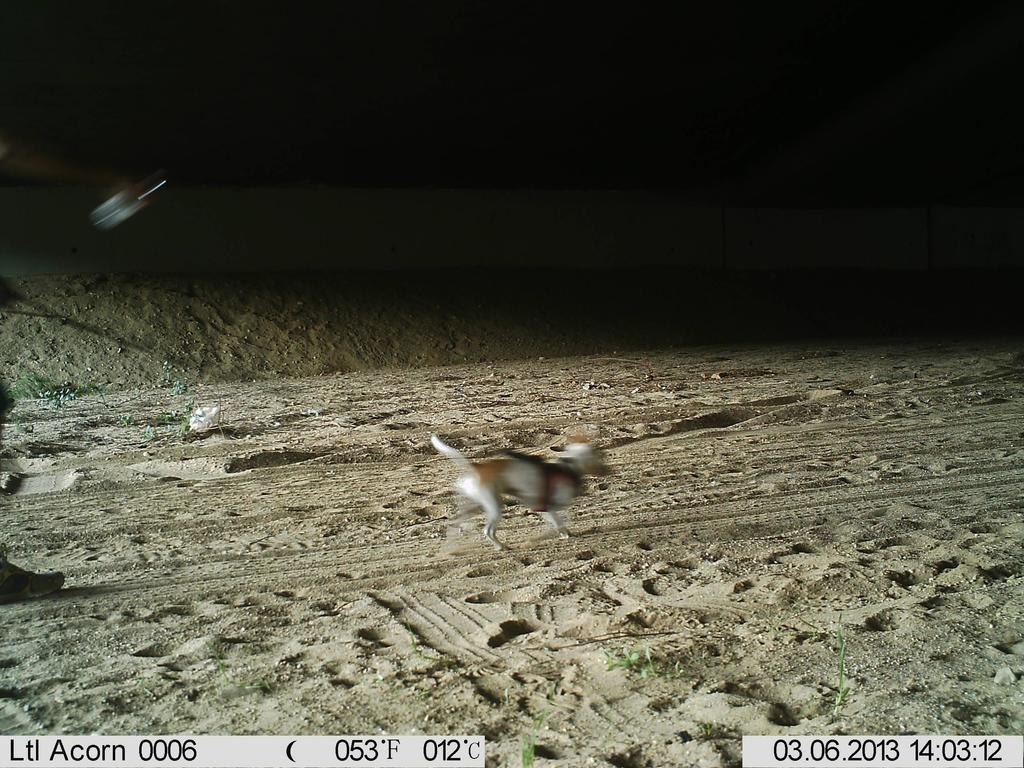dog: (420, 425, 619, 562)
